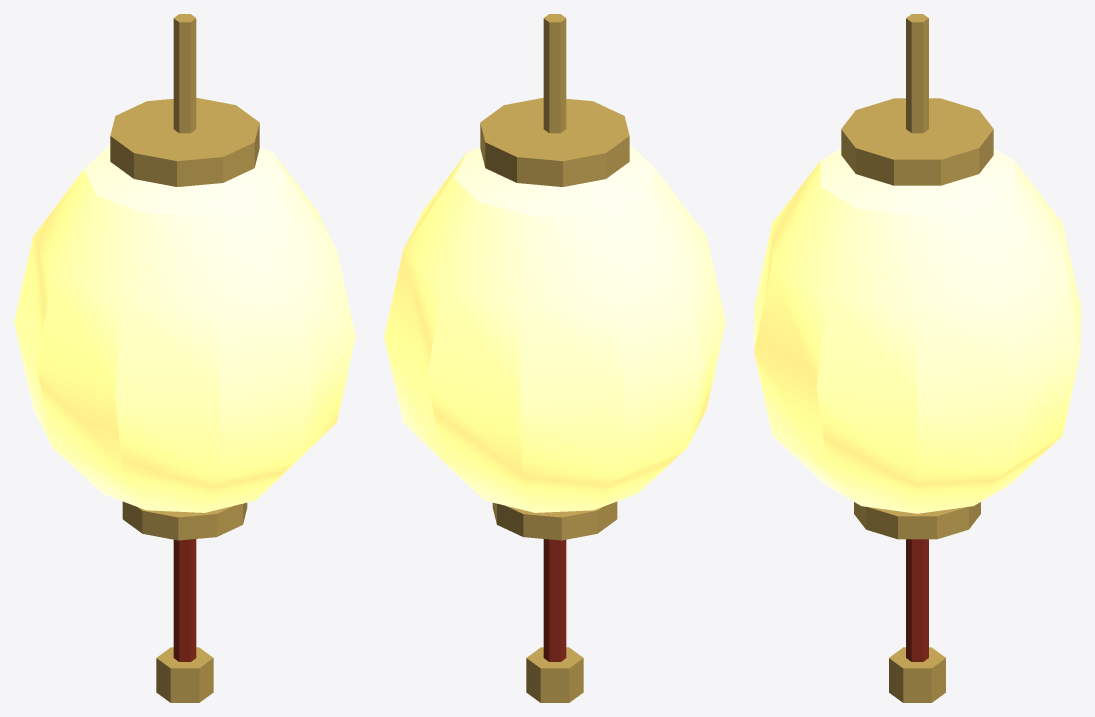
File: SM_Prop_Lantern_Hung_01.glb
3 renders of one model, left to right at view 1: azimuth 30°, elevation 25°; view 2: azimuth 150°, elevation 25°; view 3: azimuth 270°, elevation 25°, orthographic.
Visible parts, largest first — view 1: SM_Prop_Lantern_Hung_01; view 2: SM_Prop_Lantern_Hung_01; view 3: SM_Prop_Lantern_Hung_01.
Part boxes in pixels (x1,y1,x2,y2): SM_Prop_Lantern_Hung_01: (14, 14, 355, 702); SM_Prop_Lantern_Hung_01: (384, 14, 725, 702); SM_Prop_Lantern_Hung_01: (754, 14, 1080, 702).
Size of the model in its own units: 0.54 by 1.17 by 0.5136.
